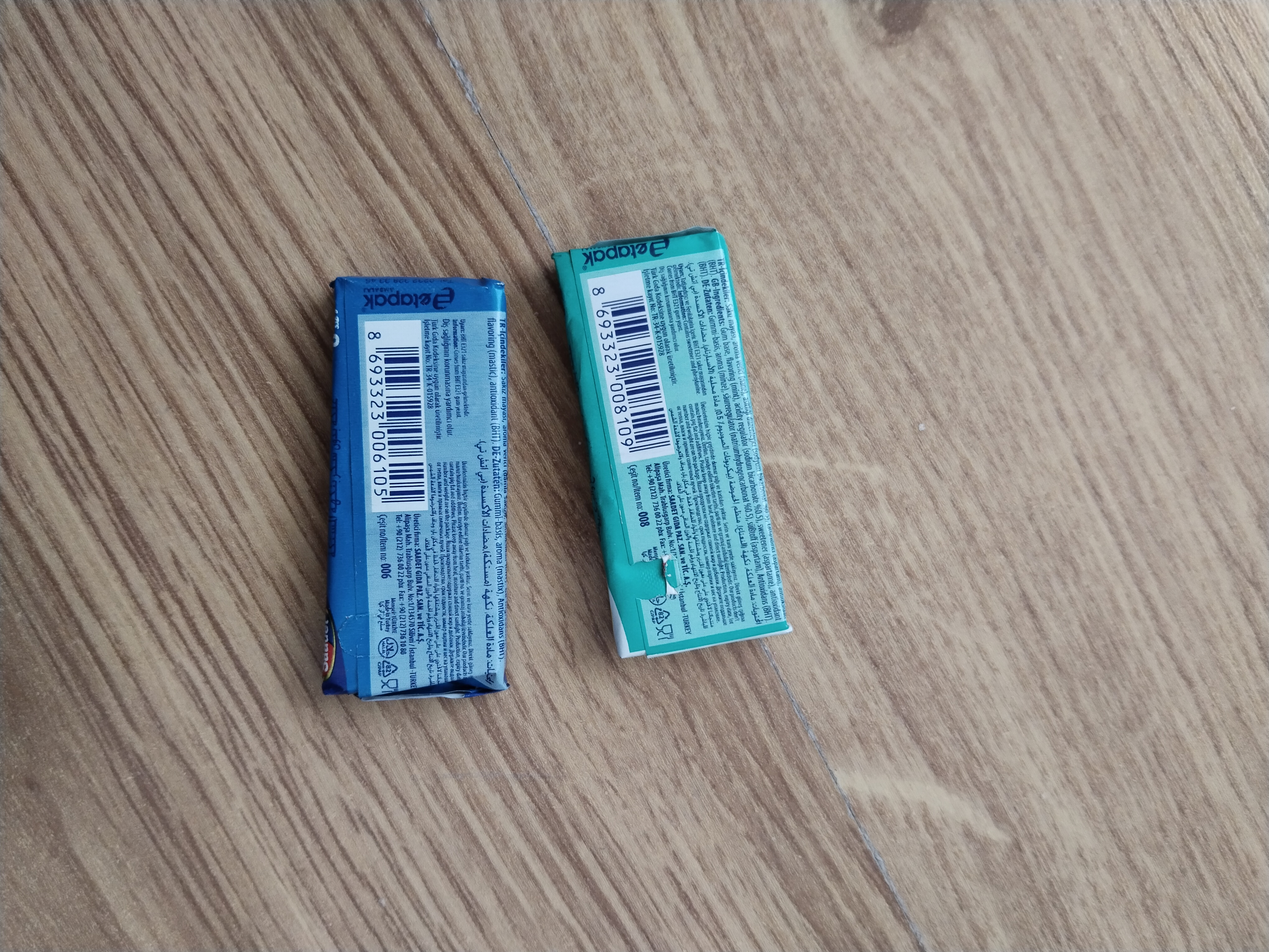nazar_damla_sakizli_sakiz: (325, 277, 508, 697)
nazar_naneli_sakiz: (554, 232, 786, 656)
